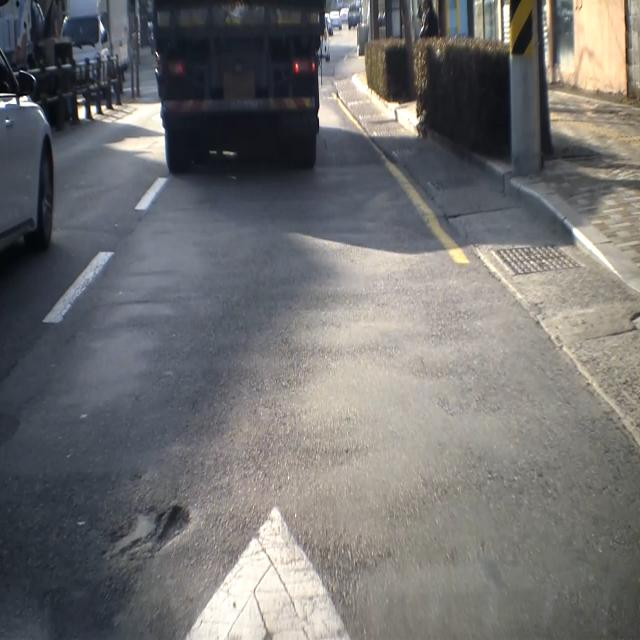Pothole: (90, 490, 196, 594)
